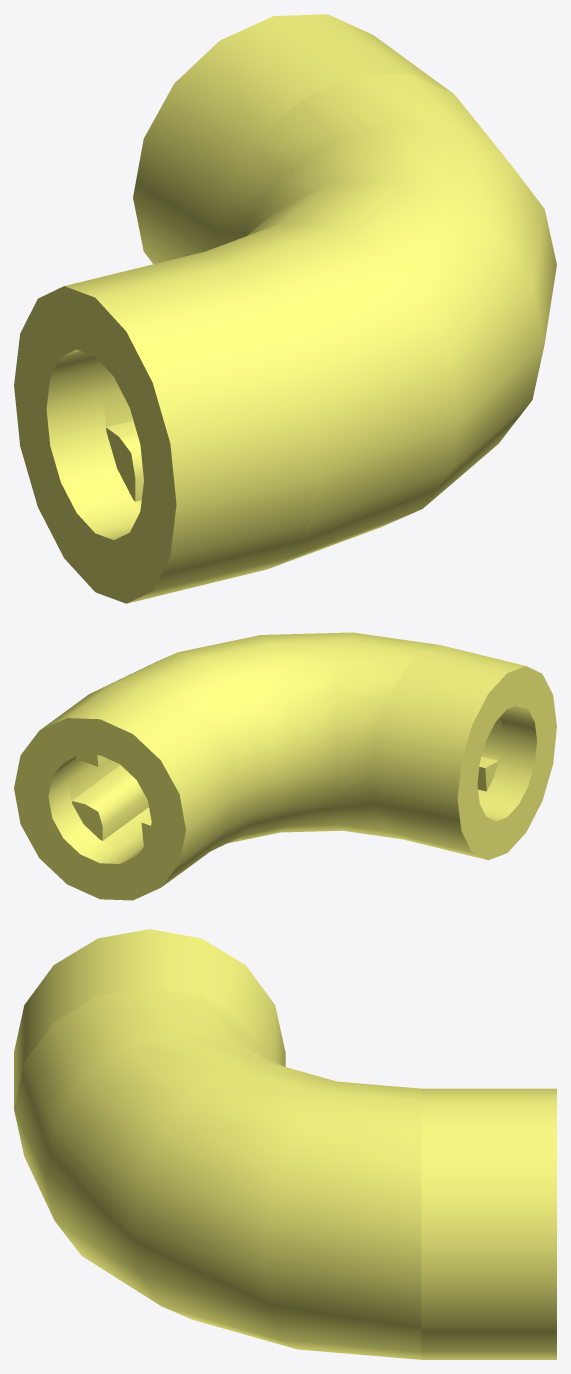
The picture shows the model from 3 angles, top to bottom: view 1: azimuth 30°, elevation 25°; view 2: azimuth 150°, elevation 25°; view 3: azimuth 270°, elevation 25°; orthographic projection. The views are drawn at different scales.
Visible parts, largest first — view 1: 25214.dat; view 2: 25214.dat; view 3: 25214.dat.
Part boxes in pixels (x1,y1,x2,y2): 25214.dat: [14, 14, 556, 603]; 25214.dat: [14, 632, 556, 900]; 25214.dat: [14, 929, 556, 1359].
Bounding box in the file's own units: 0.016 × 0.008 × 0.016.
